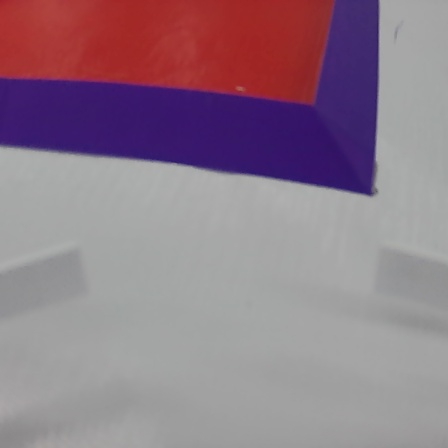red_aim: (2, 0, 379, 196)
